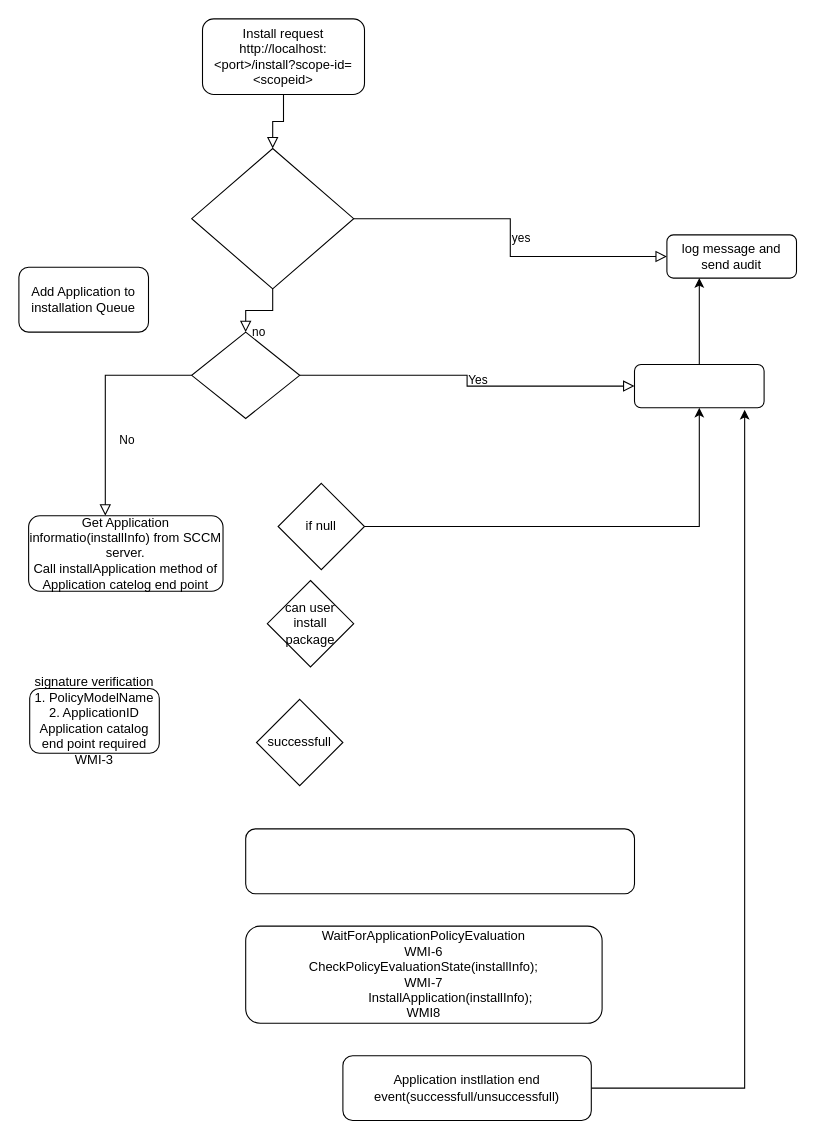
Some shapes in this 815 by 1139 pixel diagram are drawn without their labels. Each missing label, with the centre of its shape:
CCM_RequestAppPolicyActivation WMI-4 WaitForPolicyApplication WMI-5: the point at 439,861
Check application already installed WMI-1: the point at 245,374
check if application already in installation queue: the point at 272,218
remove application from queue: the point at 698,385
